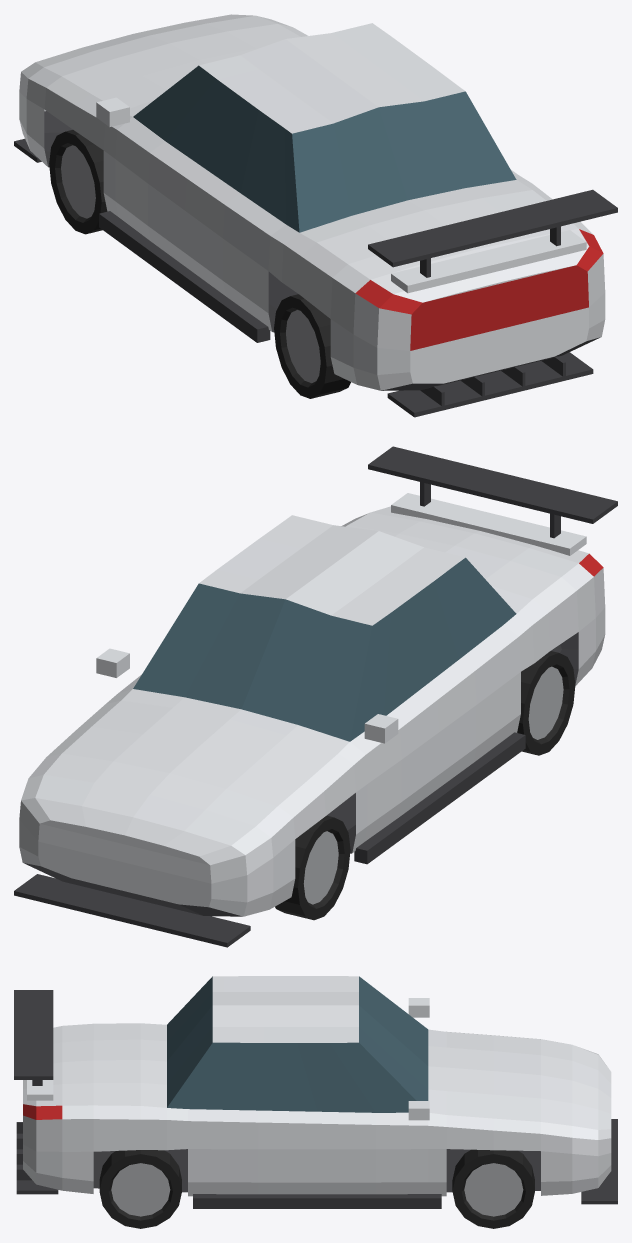
File: sedan_template_shape.glb
3 views of the same model, one above another, from view 1: azimuth 30°, elevation 25°; view 2: azimuth 150°, elevation 25°; view 3: azimuth 270°, elevation 25° (orthographic). The views are drawn at different scales.
Visible parts, largest first — view 1: body, bumper_R, tailgate, hood, spoiler_gt_wing, door_RL, door_FL, wheel_RL, wheel_FL, spoiler_roof_ext, skirt_L_skirt, bumper_R_diffuser (+4 smaller); view 2: body, hood, bumper_F, tailgate, spoiler_gt_wing, door_RL, bumper_F_lip, door_FL, wheel_FL, wheel_RL, skirt_L_skirt, spoiler_roof_ext (+5 smaller); view 3: body, hood, tailgate, door_RR, door_FR, wheel_FR, wheel_RR, fender_FR, skirt_R_skirt, spoiler_gt_wing, skirt_R, bumper_R (+6 smaller).
Part boxes in pixels (x1,y1,x2,y2): body: (21, 16, 603, 384); bumper_R: (353, 254, 605, 390); tailgate: (300, 180, 589, 314); hood: (35, 14, 300, 116); spoiler_gt_wing: (368, 189, 617, 267); door_RL: (185, 179, 270, 313); door_FL: (115, 130, 187, 252); wheel_RL: (274, 294, 350, 398); wheel_FL: (49, 130, 107, 234); spoiler_roof_ext: (391, 230, 586, 293); skirt_L_skirt: (99, 211, 270, 342); bumper_R_diffuser: (387, 352, 593, 417); body: (21, 513, 603, 909); hood: (35, 689, 349, 865); bumper_F: (19, 801, 273, 916); tailgate: (346, 506, 588, 613); spoiler_gt_wing: (368, 446, 617, 523); door_RL: (437, 637, 520, 773); bumper_F_lip: (14, 874, 250, 947); door_FL: (366, 700, 439, 825); wheel_FL: (275, 815, 350, 920); wheel_RL: (517, 651, 575, 755); skirt_L_skirt: (354, 732, 525, 864); spoiler_roof_ext: (391, 493, 586, 555); body: (23, 976, 611, 1195); hood: (428, 1029, 611, 1129); tailgate: (23, 1023, 166, 1107); door_RR: (188, 1121, 317, 1182); door_FR: (317, 1123, 428, 1182); wheel_FR: (452, 1149, 534, 1228); wheel_RR: (99, 1150, 181, 1228); fender_FR: (428, 1126, 572, 1182); skirt_R_skirt: (193, 1194, 441, 1208); spoiler_gt_wing: (14, 990, 53, 1079); skirt_R: (188, 1182, 446, 1196); bumper_R: (23, 1115, 62, 1190).
Size of the model in its own units: 2 by 1.49 by 4.62.
